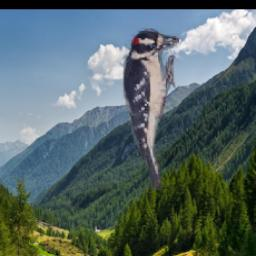Woodpecker: (121, 26, 178, 190)
